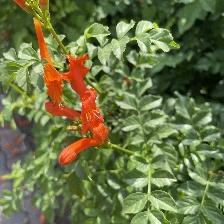honeysuckle: (62, 60, 115, 148)
